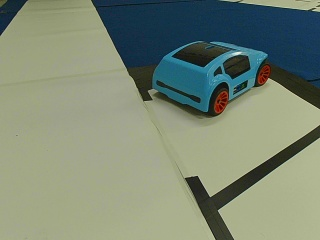car: (151, 39, 271, 117)
